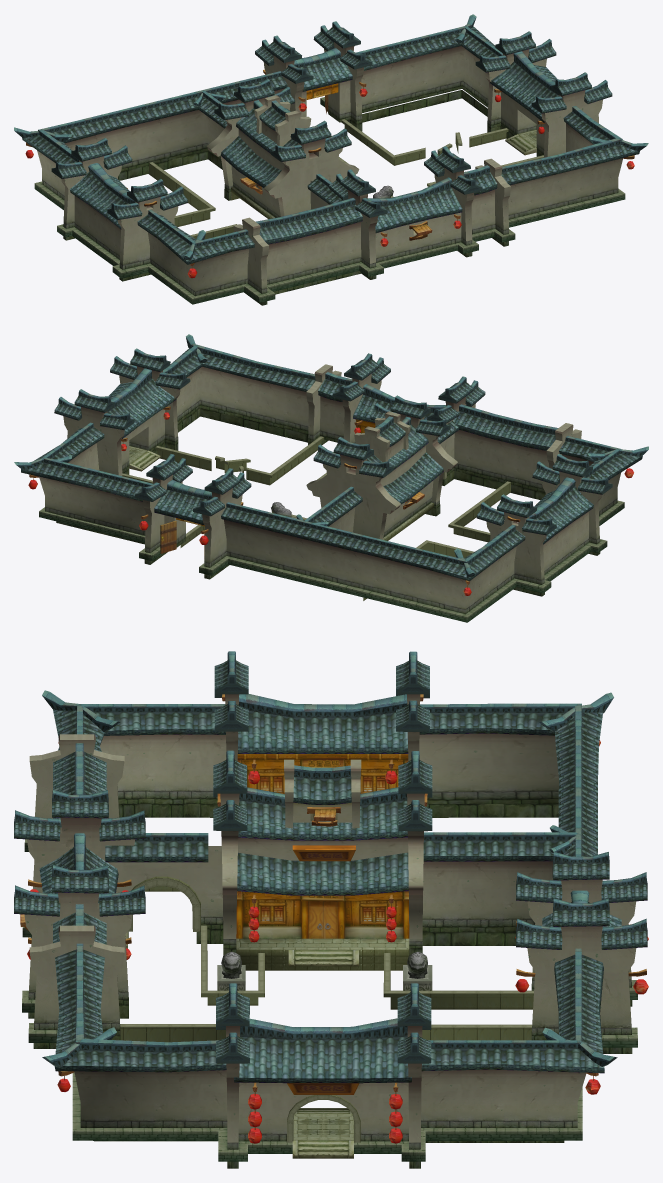
File: taoyuanzhen_youqianrenzhai.FBX
3 renders of one model, top to bottom at view 1: azimuth 30°, elevation 25°; view 2: azimuth 150°, elevation 25°; view 3: azimuth 270°, elevation 25°, orthographic. The views are drawn at different scales.
Visible parts, largest first — view 1: taoyuanzhen_youqianrenzhai; view 2: taoyuanzhen_youqianrenzhai; view 3: taoyuanzhen_youqianrenzhai.
Part boxes in pixels (x1=…): taoyuanzhen_youqianrenzhai: x1=14, y1=14, x2=648, y2=305; taoyuanzhen_youqianrenzhai: x1=14, y1=334, x2=648, y2=622; taoyuanzhen_youqianrenzhai: x1=14, y1=651, x2=648, y2=1168.
Size of the model in its own units: 4095 by 889 by 2805.
